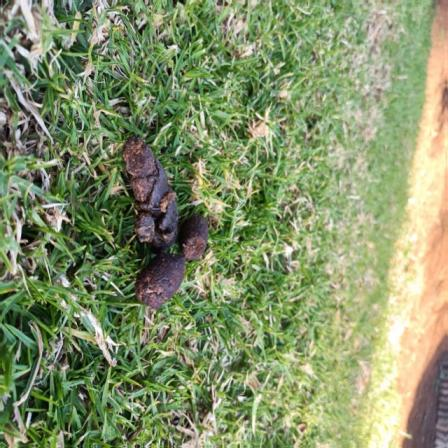dog-poop: (114, 133, 222, 301)
